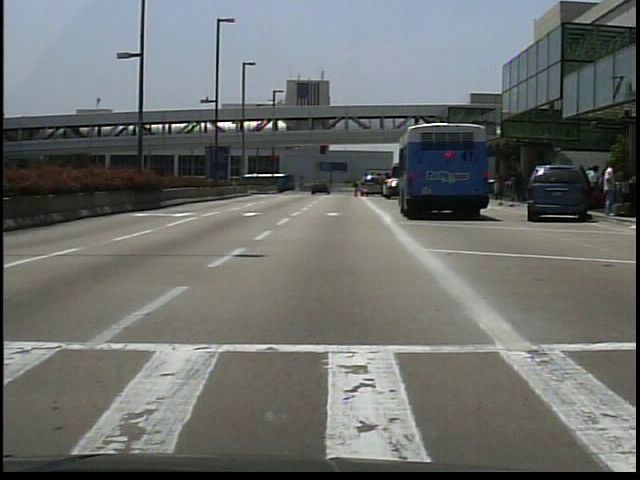person: (599, 162, 619, 218), (599, 165, 613, 213), (515, 169, 528, 204), (588, 165, 602, 183), (317, 182, 326, 198)
